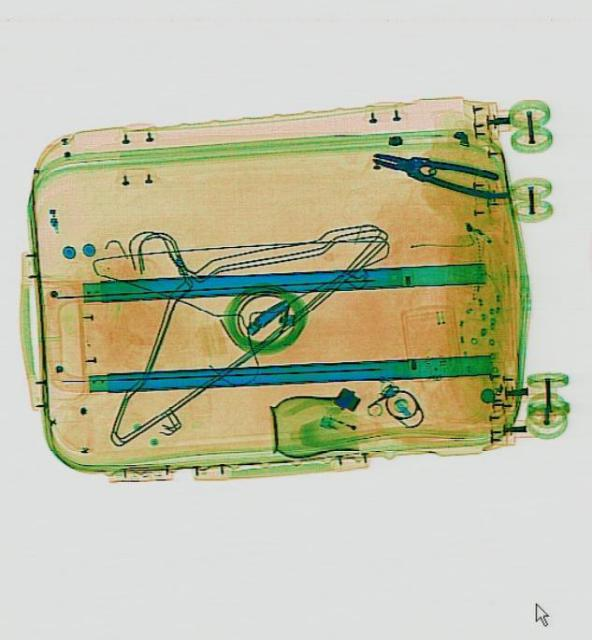Pliers: (368, 144, 509, 200)
